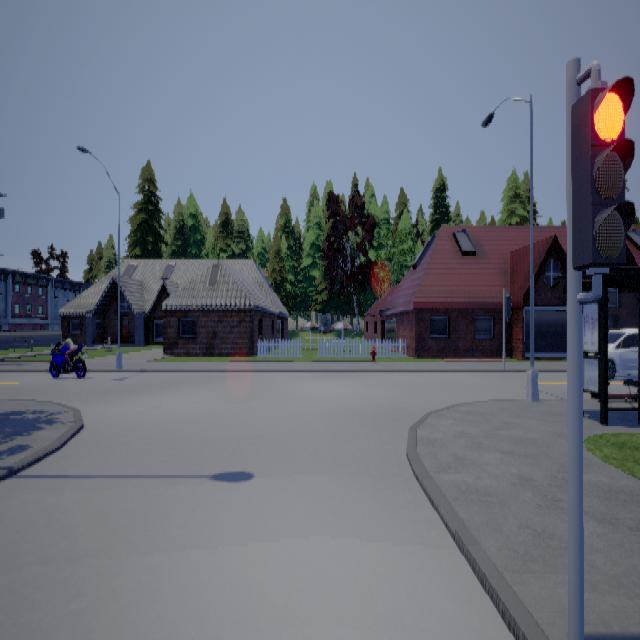motobike: (48, 340, 87, 377)
red_light: (570, 59, 635, 303)
vehicle: (607, 327, 637, 379)
